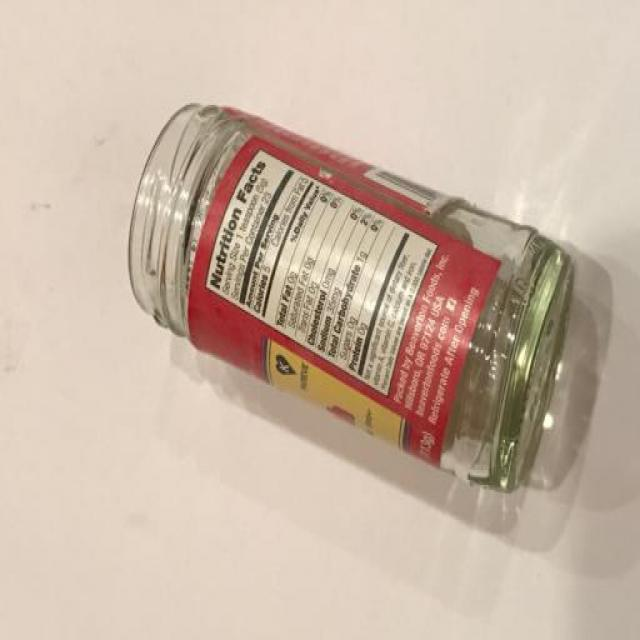glass: (65, 77, 584, 552)
